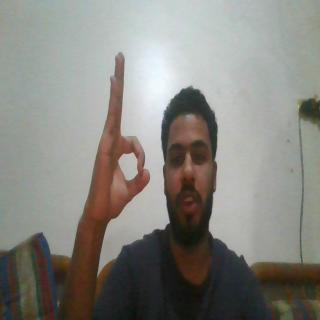Space: (89, 41, 152, 216)
